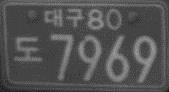0: (106, 7, 122, 31)
6: (103, 34, 131, 83)
7: (48, 32, 74, 80)
8: (87, 7, 105, 31)
9: (131, 34, 159, 85), (78, 34, 102, 82)
대구_O: (42, 6, 85, 27)
도: (12, 34, 43, 64)
